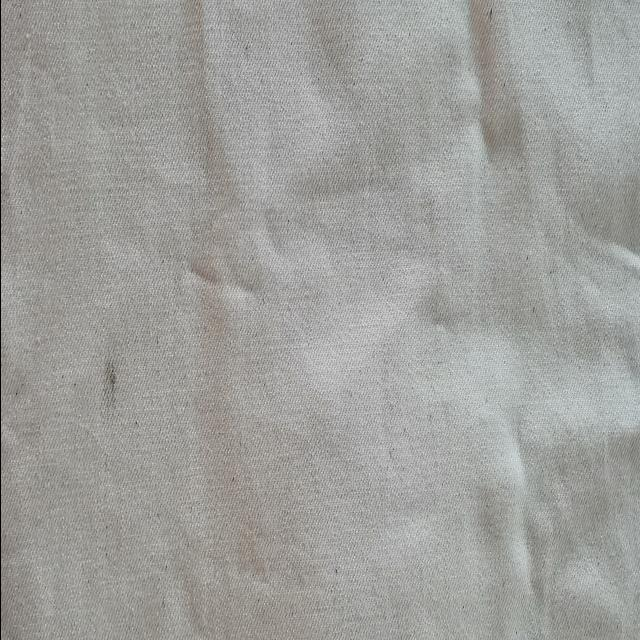taaaches: (80, 350, 126, 434)
